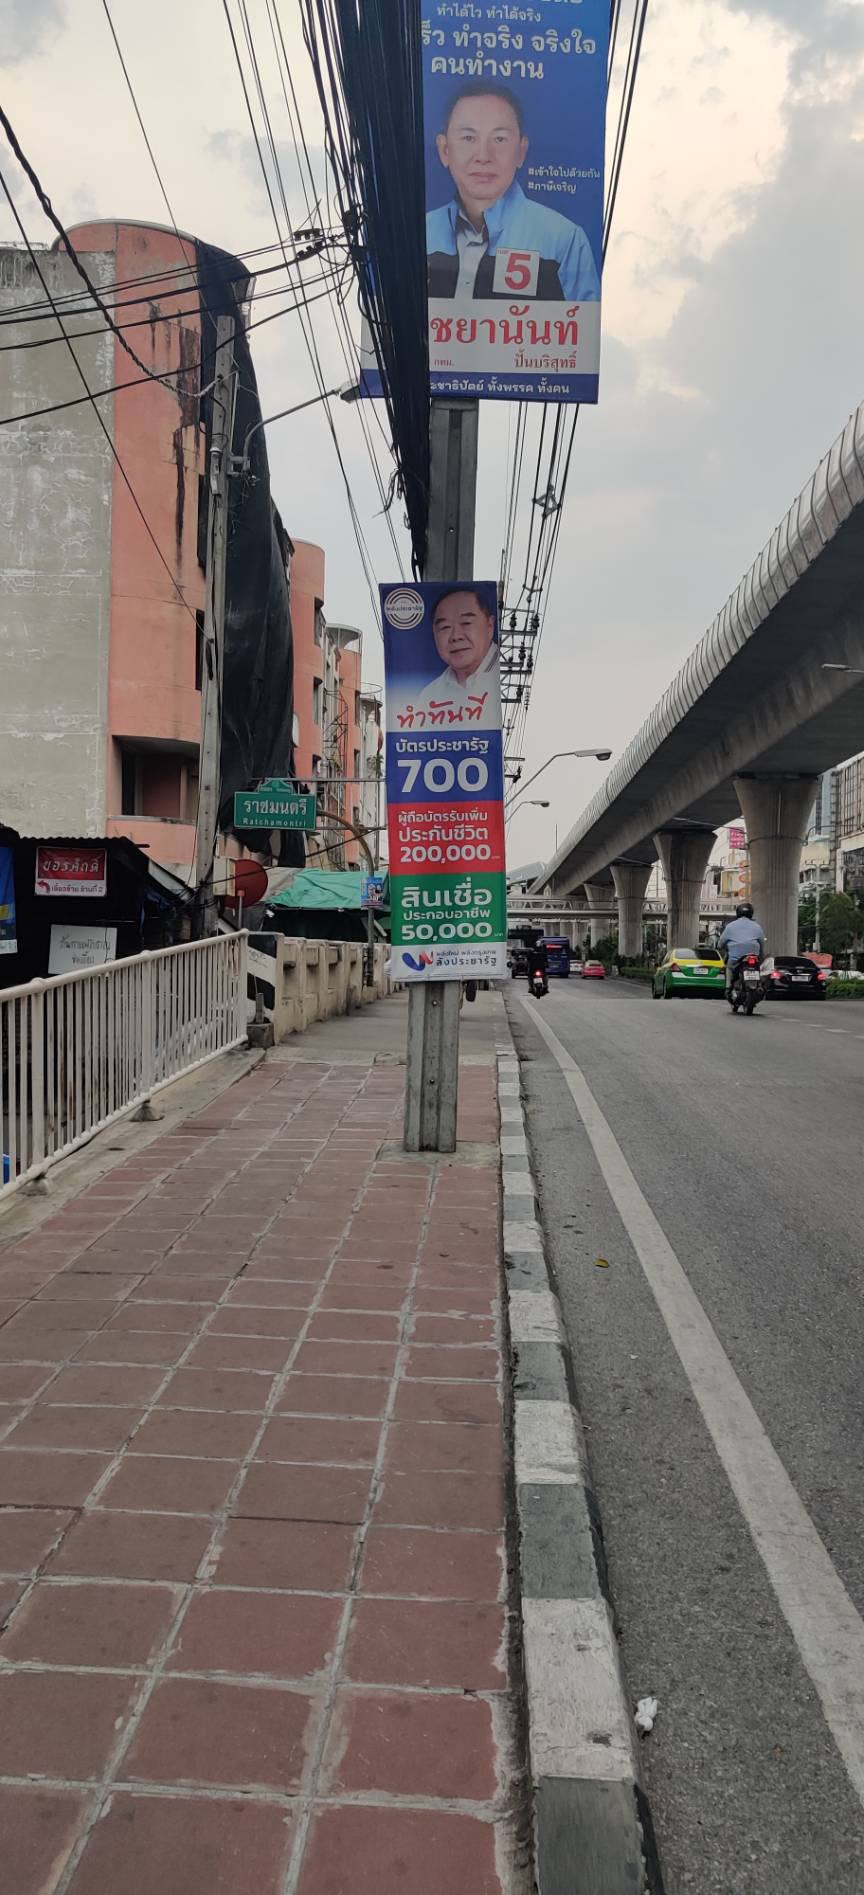Banner: (398, 5, 625, 419), (378, 568, 523, 999)
